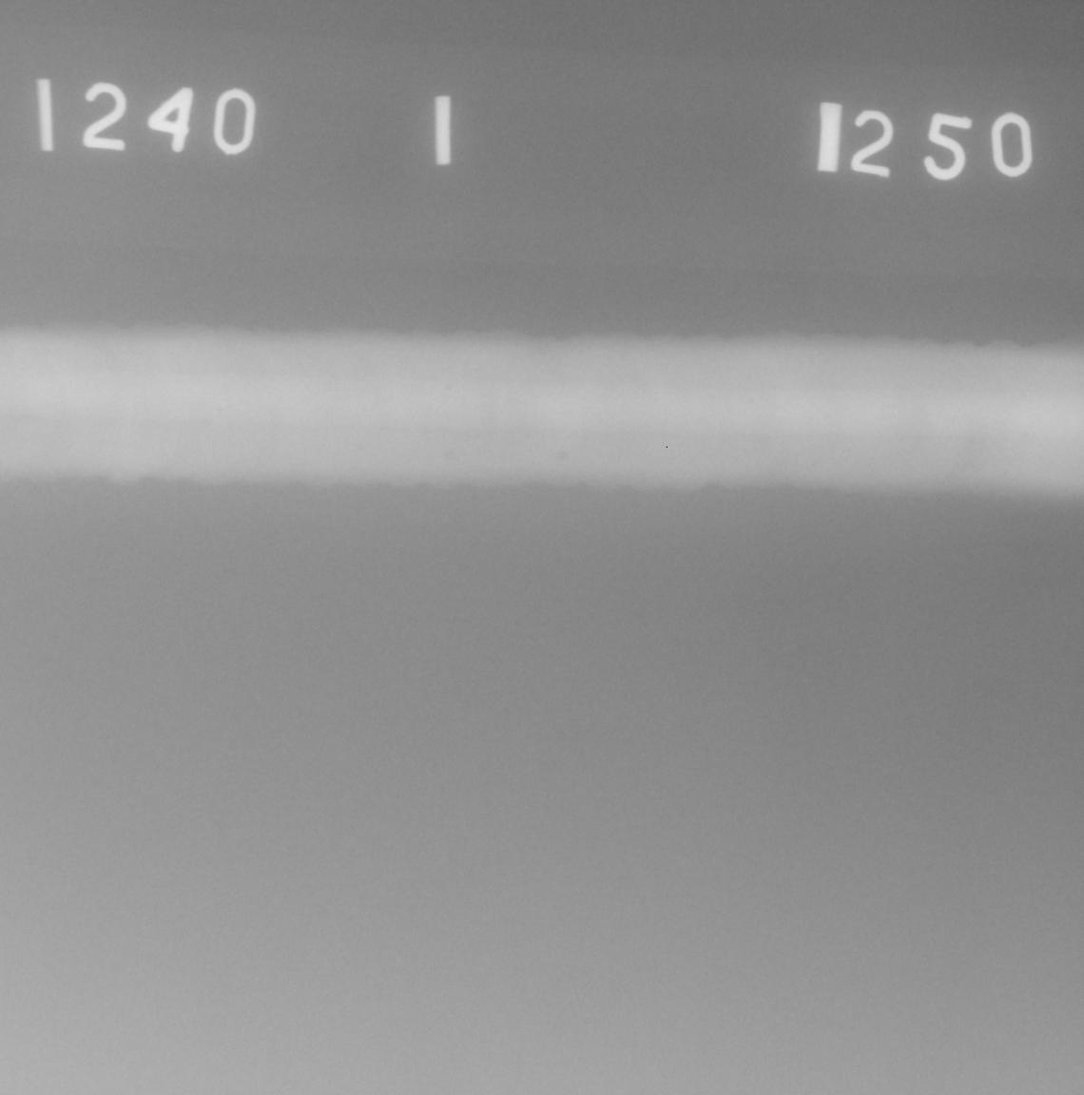Pore/Porosity: (445, 449, 455, 461), (556, 452, 569, 460), (445, 384, 452, 390), (357, 444, 363, 451), (218, 407, 223, 412), (1025, 433, 1029, 437)
